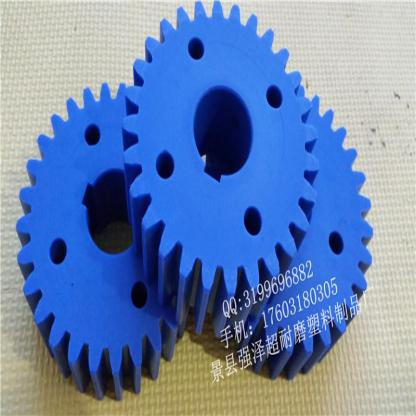FOD: (121, 0, 320, 340), (15, 76, 187, 403), (228, 77, 376, 382)
